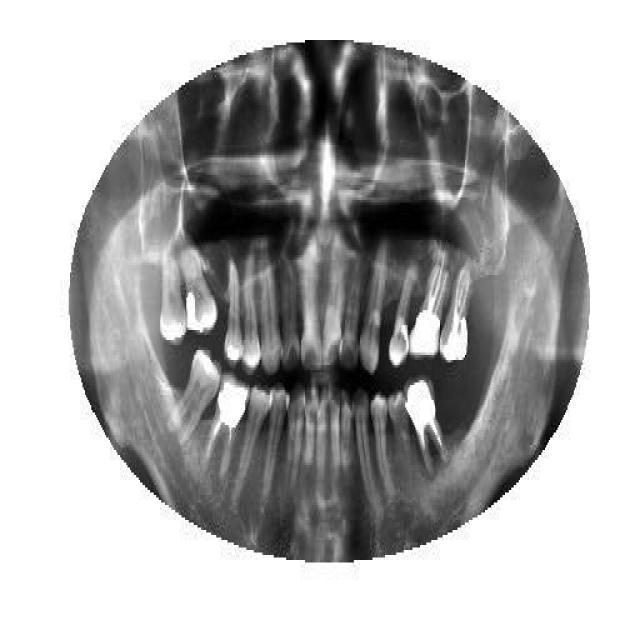dolgu: (180, 283, 218, 334)
kanal-tedavisi: (407, 416, 458, 473), (198, 416, 238, 474), (419, 254, 455, 318), (450, 269, 474, 316)
kaplama: (406, 374, 437, 424), (386, 313, 418, 361), (442, 313, 472, 361), (220, 376, 251, 422), (408, 308, 438, 355)
